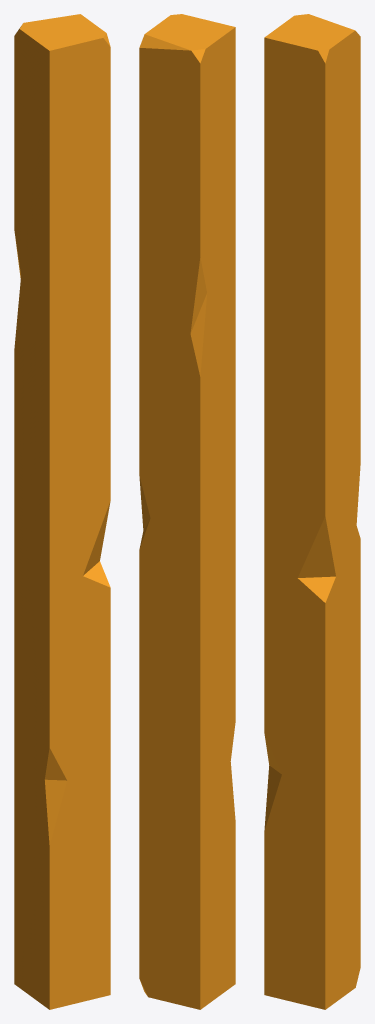
Rendered from SM_Buildings_Column_1x3_01P.fbx.
3 views of the same model, side by side, from view 1: azimuth 30°, elevation 25°; view 2: azimuth 150°, elevation 25°; view 3: azimuth 330°, elevation 25° (orthographic).
Visible parts, largest first — view 1: SM_Buildings_Column_1x3_01P; view 2: SM_Buildings_Column_1x3_01P; view 3: SM_Buildings_Column_1x3_01P.
Boxes of the visible parts, box(x1,y1,x2,y2) form: SM_Buildings_Column_1x3_01P: box(14, 14, 110, 1009); SM_Buildings_Column_1x3_01P: box(139, 14, 235, 1009); SM_Buildings_Column_1x3_01P: box(264, 14, 360, 1009).
Size of the model in its own units: 20 by 300 by 20.
